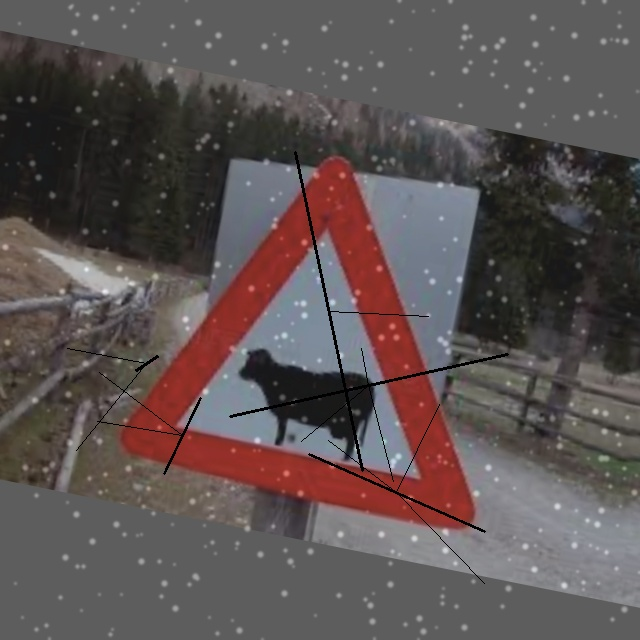Cattle: (119, 143, 523, 534)
